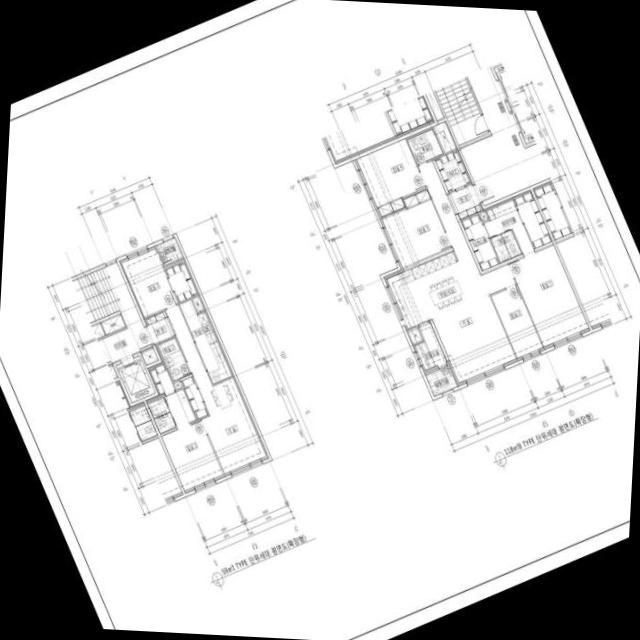background: (0, 0, 640, 640)
space_bedroom: (509, 244, 589, 348), (380, 189, 451, 268), (355, 138, 425, 218), (161, 419, 224, 492), (119, 245, 178, 317), (491, 285, 543, 360)
space_dressroom: (461, 214, 499, 270), (164, 258, 199, 302), (164, 388, 196, 429), (148, 362, 175, 396)
space_elevator: (116, 355, 155, 402), (493, 64, 518, 105), (510, 102, 535, 143)
space_elevator_hall: (460, 66, 550, 205), (98, 262, 152, 364)
space_front: (449, 184, 482, 219), (144, 310, 174, 343)
space_kitchen: (385, 251, 475, 329), (179, 299, 233, 383)
space_living_room: (418, 160, 517, 384), (165, 304, 268, 475)
space_other: (484, 199, 533, 253), (514, 192, 552, 248), (413, 322, 446, 370), (435, 150, 470, 192), (181, 376, 208, 419), (433, 121, 456, 153), (101, 314, 125, 335), (141, 347, 158, 364), (407, 327, 422, 344), (91, 322, 105, 339), (192, 295, 205, 311), (479, 211, 488, 221), (174, 380, 182, 389)
space_outdoor_room: (425, 366, 457, 396), (157, 237, 183, 264)
space_staircase: (435, 77, 488, 145), (72, 267, 122, 322)
space_toilet: (157, 336, 191, 381), (407, 128, 443, 164), (490, 230, 521, 262), (147, 396, 170, 418), (154, 412, 176, 433)
